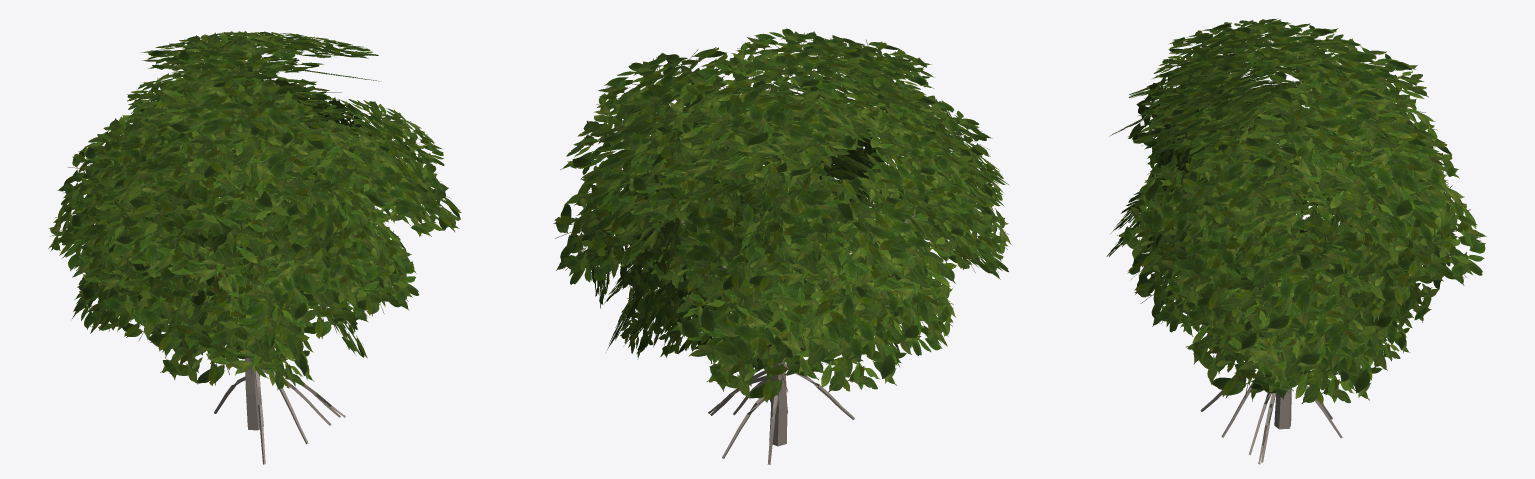
File: mangrove_a.glb
The picture shows the model from 3 angles, left to right: view 1: azimuth 30°, elevation 25°; view 2: azimuth 150°, elevation 25°; view 3: azimuth 270°, elevation 25°; orthographic projection. The views are drawn at different scales.
Visible parts, largest first — view 1: mangrove_a; view 2: mangrove_a; view 3: mangrove_a.
Part boxes in pixels (x1=…): mangrove_a: x1=48, y1=31, x2=461, y2=464; mangrove_a: x1=553, y1=28, x2=1011, y2=464; mangrove_a: x1=1106, y1=18, x2=1486, y2=464.
Bounding box in the file's own units: 8.82 × 7.48 × 8.08.
Materials: 2 (1 with a texture image).
